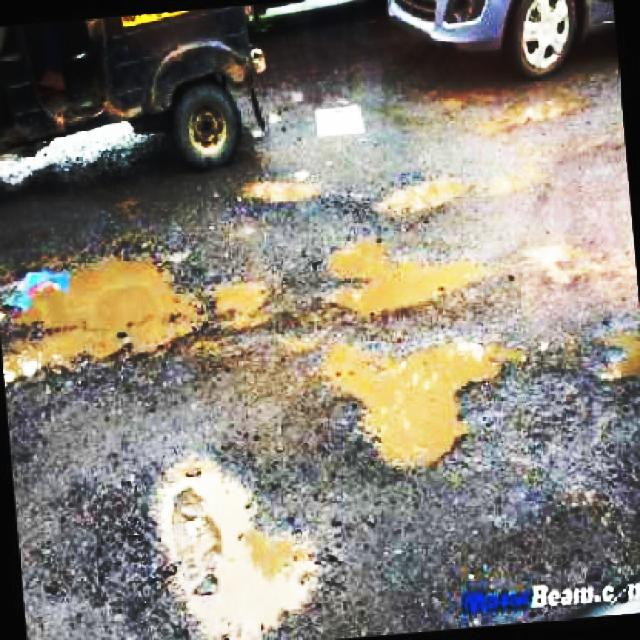pothole: (150, 441, 329, 640), (314, 328, 523, 480), (0, 238, 214, 384), (325, 232, 492, 320), (372, 165, 470, 228), (208, 266, 284, 340), (477, 90, 591, 138), (528, 235, 603, 291), (243, 169, 329, 209), (480, 151, 543, 203), (597, 317, 640, 386)
